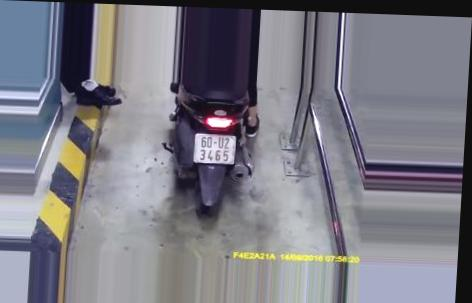License_Plate: (187, 127, 241, 170)
